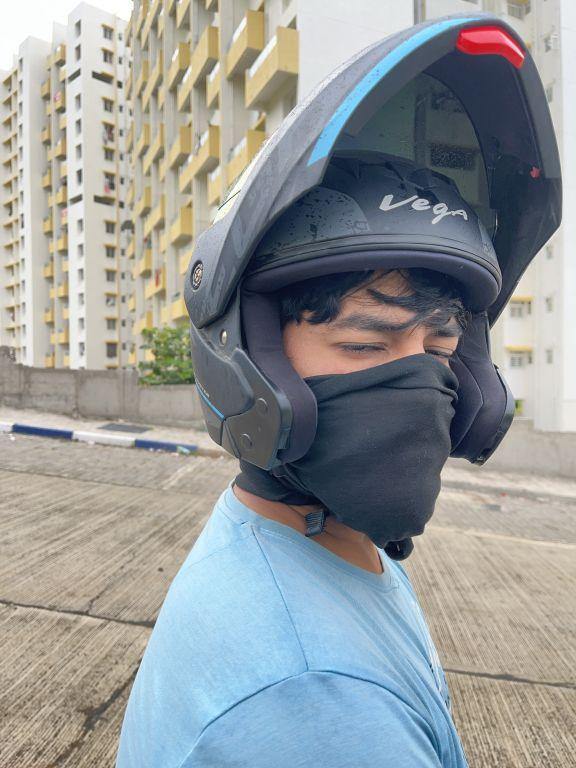helmet: (170, 2, 566, 570)
